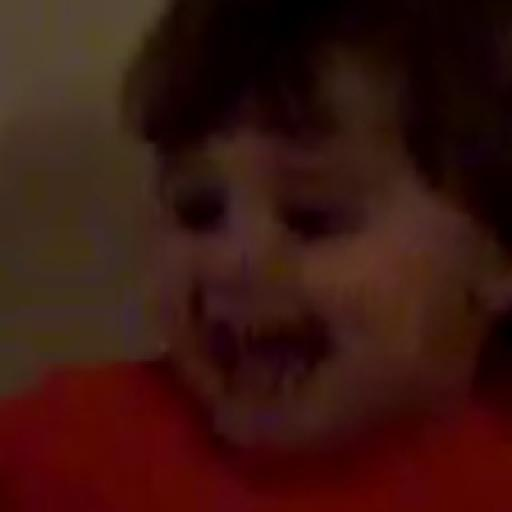Autism: (61, 2, 512, 450)
